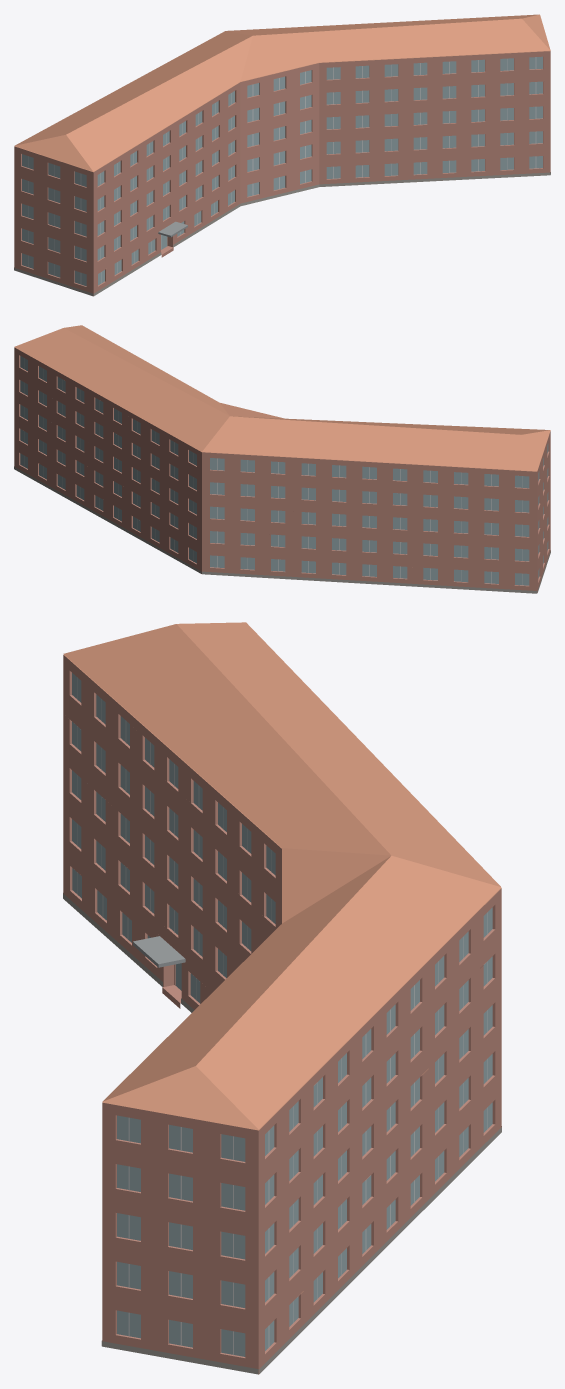
The picture shows the model from 3 angles, top to bottom: view 1: azimuth 30°, elevation 25°; view 2: azimuth 150°, elevation 25°; view 3: azimuth 270°, elevation 25°; orthographic projection. The views are drawn at different scales.
Visible parts, largest first — view 1: b117903329__wall, b117903329__roof, b117903329__glass, b117903329__base, b117903329__frame; view 2: b117903329__wall, b117903329__roof, b117903329__glass, b117903329__base, b117903329__frame; view 3: b117903329__wall, b117903329__roof, b117903329__glass, b117903329__base, b117903329__frame, b117903329__canopy.
Part boxes in pixels (bbox=[...]): b117903329__wall: bbox=[14, 51, 550, 295]; b117903329__roof: bbox=[14, 14, 550, 172]; b117903329__glass: bbox=[22, 56, 542, 286]; b117903329__base: bbox=[14, 172, 550, 296]; b117903329__frame: bbox=[28, 57, 536, 284]; b117903329__wall: bbox=[14, 347, 550, 592]; b117903329__roof: bbox=[14, 325, 550, 471]; b117903329__glass: bbox=[20, 356, 548, 585]; b117903329__base: bbox=[14, 466, 550, 593]; b117903329__frame: bbox=[24, 358, 522, 585]; b117903329__wall: bbox=[63, 655, 501, 1373]; b117903329__roof: bbox=[63, 622, 501, 1293]; b117903329__glass: bbox=[72, 673, 492, 1356]; b117903329__base: bbox=[63, 893, 501, 1374]; b117903329__frame: bbox=[77, 677, 487, 1355]; b117903329__canopy: bbox=[133, 936, 185, 967].
Bounding box in the file's own units: 80.42 × 20.76 × 29.4.
